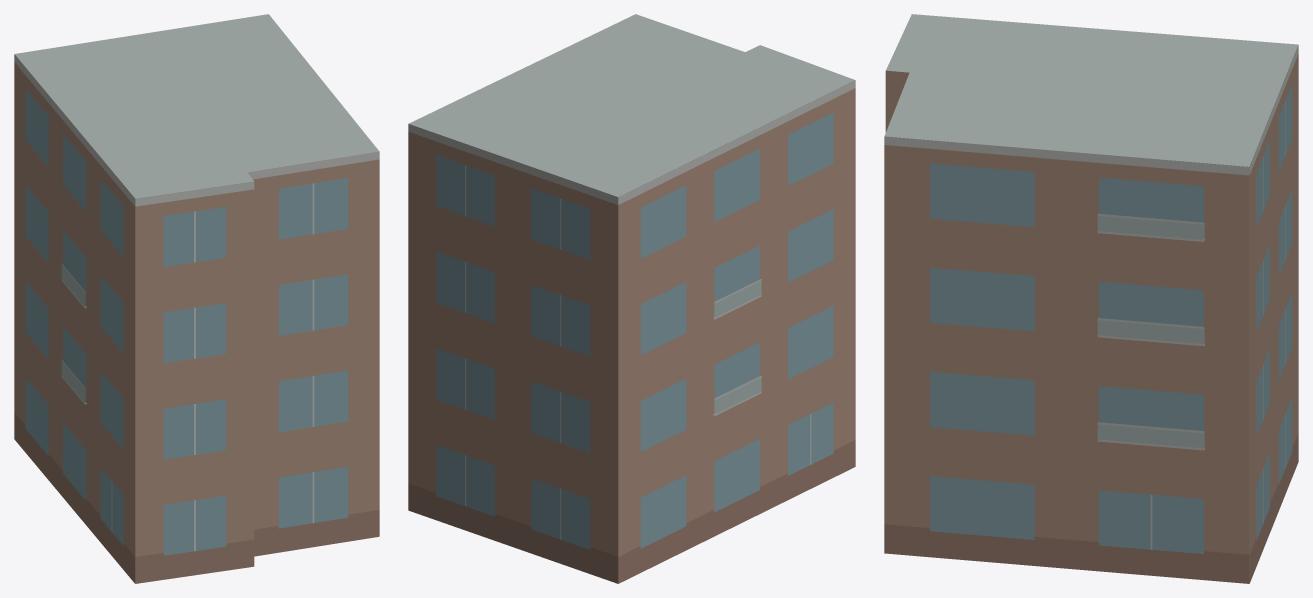
File: survey-upis-32473824.glb
3 views of the same model, side by side, from view 1: azimuth 30°, elevation 25°; view 2: azimuth 150°, elevation 25°; view 3: azimuth 270°, elevation 25° (orthographic). The views are drawn at different scales.
Visible parts, largest first — view 1: survey-upis-32473824.tmp; view 2: survey-upis-32473824.tmp; view 3: survey-upis-32473824.tmp.
Boxes of the visible parts, box(x1,y1,x2,y2) form: survey-upis-32473824.tmp: box(14, 14, 379, 583); survey-upis-32473824.tmp: box(408, 14, 855, 583); survey-upis-32473824.tmp: box(884, 14, 1298, 583).
Bounding box in the file's own units: 9.34 × 11.87 × 10.7.
